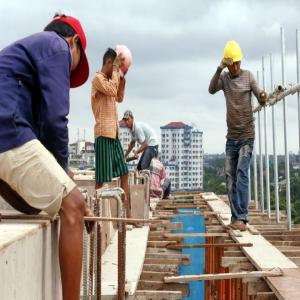none: (102, 48, 117, 79), (124, 111, 134, 129)
red: (47, 16, 82, 75)
yellow: (223, 41, 243, 77)
